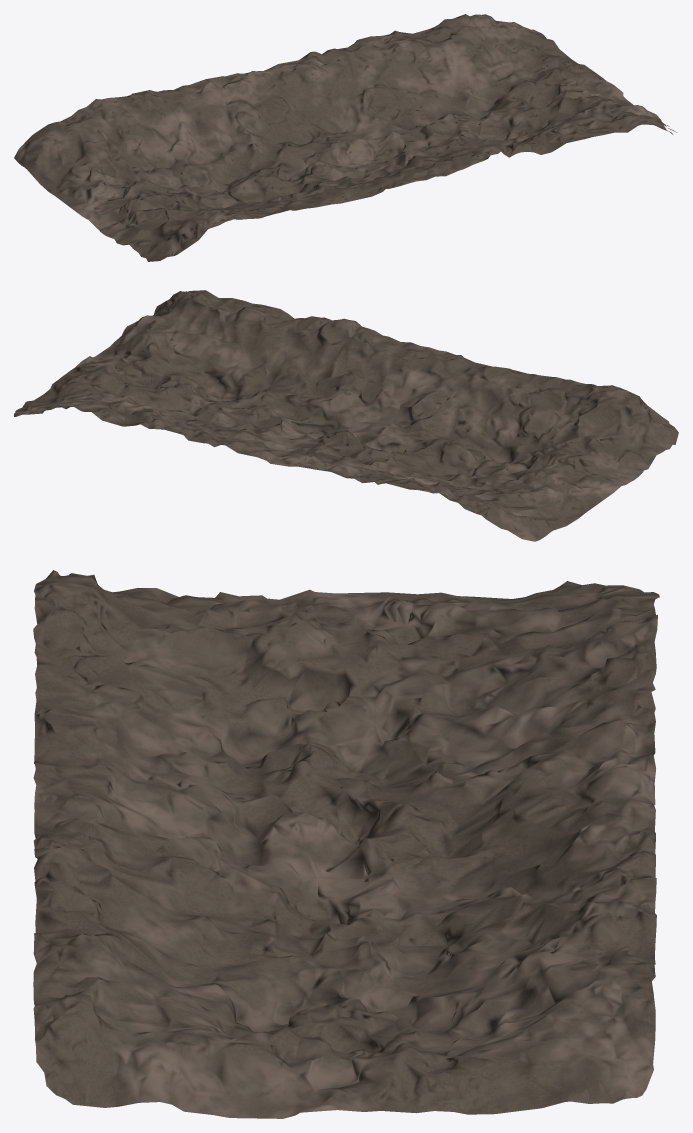
File: SM_FloorMud_4x8_01.glb
3 views of the same model, one above another, from view 1: azimuth 30°, elevation 25°; view 2: azimuth 150°, elevation 25°; view 3: azimuth 270°, elevation 25° (orthographic). The views are drawn at different scales.
Parts seen in each view (by area): view 1: SM_FloorMud_4x8_01; view 2: SM_FloorMud_4x8_01; view 3: SM_FloorMud_4x8_01.
Part boxes in pixels (x1=…): SM_FloorMud_4x8_01: x1=14, y1=14, x2=677, y2=261; SM_FloorMud_4x8_01: x1=14, y1=290, x2=678, y2=541; SM_FloorMud_4x8_01: x1=33, y1=570, x2=659, y2=1118.
Size of the model in its own units: 7.92 by 0.829 by 4.03.
1 material, 1 textured.
